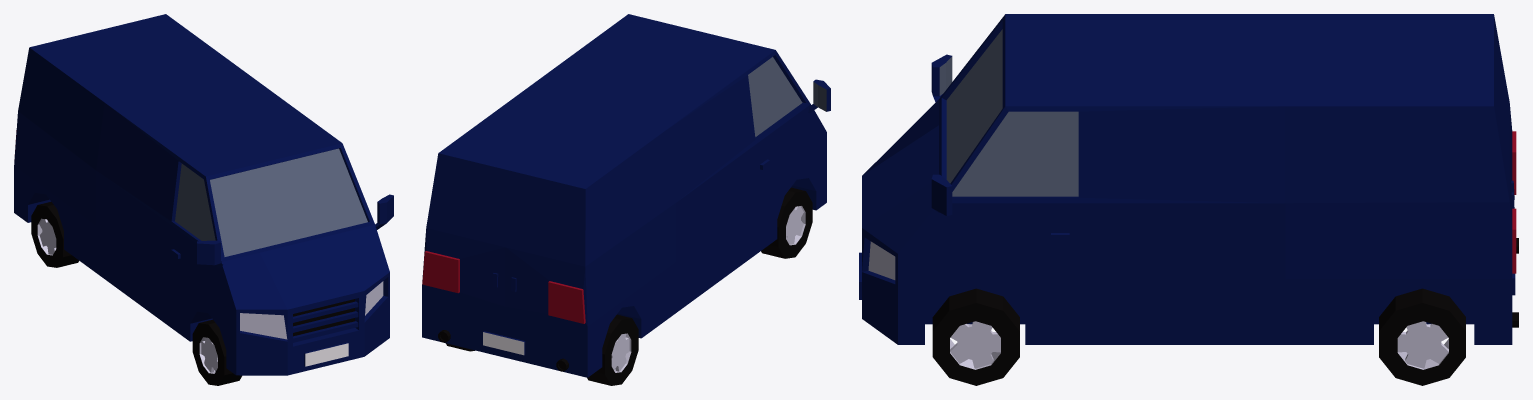
Rendered from rgs-Van.glb.
3 views of the same model, side by side, from view 1: azimuth 30°, elevation 25°; view 2: azimuth 150°, elevation 25°; view 3: azimuth 270°, elevation 25° (orthographic). The views are drawn at different scales.
Parts seen in each view (by area): view 1: Van, Van wheel front right, Van wheel rear right; view 2: Van, Van wheel rear right, Van wheel front right; view 3: Van, Van wheel front left, Van wheel rear left.
Part boxes in pixels (<box>): Van: <box>14,14,393,375</box>; Van wheel front right: <box>192,319,241,385</box>; Van wheel rear right: <box>31,201,78,267</box>; Van: <box>422,14,830,377</box>; Van wheel rear right: <box>587,314,638,385</box>; Van wheel front right: <box>761,187,812,258</box>; Van: <box>859,14,1518,344</box>; Van wheel front left: <box>932,288,1019,385</box>; Van wheel rear left: <box>1379,288,1465,385</box>.
Size of the model in its own units: 2.81 by 2.71 by 5.91.
